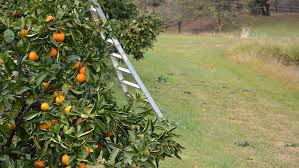orange: (51, 30, 65, 43), (27, 50, 40, 62), (62, 152, 72, 166), (74, 74, 85, 84), (40, 104, 50, 111)
